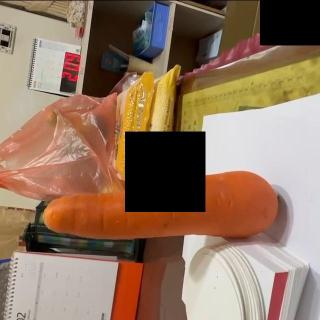carrot: (42, 168, 280, 240)
